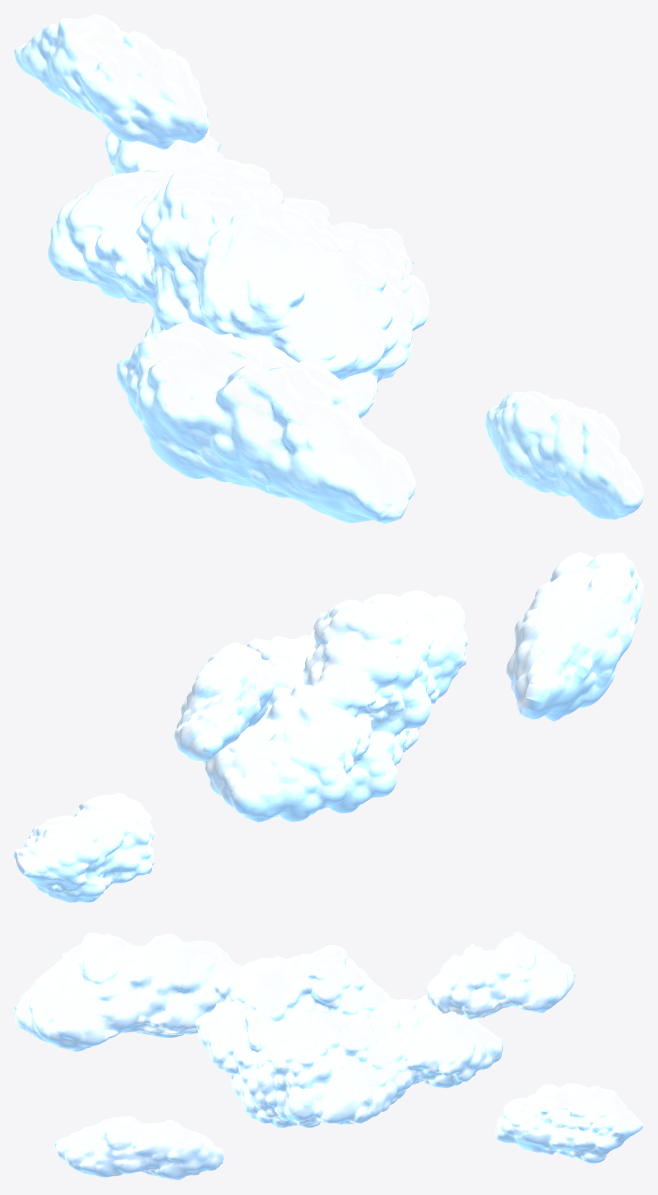
File: clouds.glb
3 renders of one model, top to bottom at view 1: azimuth 30°, elevation 25°; view 2: azimuth 150°, elevation 25°; view 3: azimuth 270°, elevation 25°, orthographic. The views are drawn at different scales.
Parts seen in each view (by area): view 1: Clouds; view 2: Clouds; view 3: Clouds.
Boxes of the visible parts, x1,y1,x2,y2 form: Clouds: [14, 14, 643, 523]; Clouds: [14, 552, 643, 902]; Clouds: [14, 931, 643, 1180].
Bounding box in the file's own units: 40.69 × 27.66 × 83.88.
Materials: 1 (1 with a texture image).
